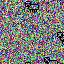sheep: (25, 1, 39, 12)
